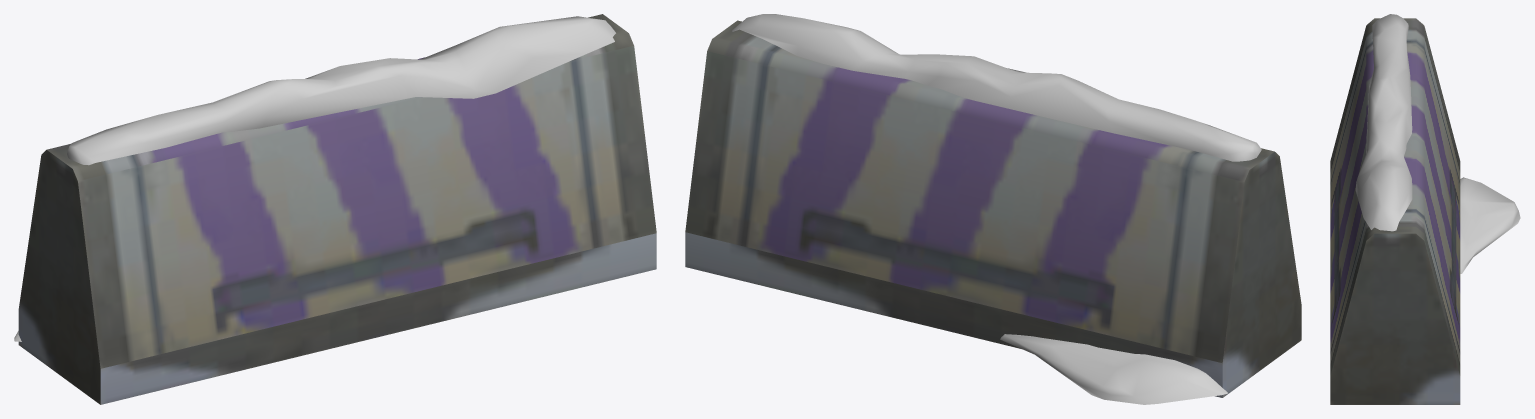
Rendered from pref_sm_city_ramen03_snow_lv3.fbx.
3 renders of one model, left to right at view 1: azimuth 30°, elevation 25°; view 2: azimuth 150°, elevation 25°; view 3: azimuth 270°, elevation 25°, orthographic. The views are drawn at different scales.
Visible parts, largest first — view 1: sm_city_ramen_03_snow_lv3, sm_city_ramen_03b_snow_lv3; view 2: sm_city_ramen_03_snow_lv3, sm_city_ramen_03b_snow_lv3; view 3: sm_city_ramen_03_snow_lv3, sm_city_ramen_03b_snow_lv3.
Part boxes in pixels (bbox=[...]): sm_city_ramen_03_snow_lv3: bbox=[18, 14, 656, 404]; sm_city_ramen_03b_snow_lv3: bbox=[14, 16, 615, 341]; sm_city_ramen_03_snow_lv3: bbox=[685, 20, 1301, 397]; sm_city_ramen_03b_snow_lv3: bbox=[732, 14, 1261, 404]; sm_city_ramen_03_snow_lv3: bbox=[1330, 18, 1460, 404]; sm_city_ramen_03b_snow_lv3: bbox=[1355, 14, 1520, 273].
Size of the model in its own units: 3.43 by 1.44 by 1.27.
